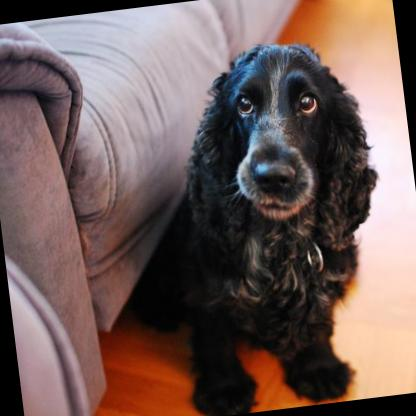cocker_spaniel: (101, 27, 409, 416)
